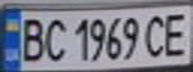1: (69, 15, 90, 62)
6: (103, 14, 127, 61)
9: (121, 12, 145, 61), (87, 15, 109, 61)
B: (15, 15, 48, 63)
C: (139, 11, 172, 60), (39, 15, 69, 62)
E: (157, 8, 193, 57)
